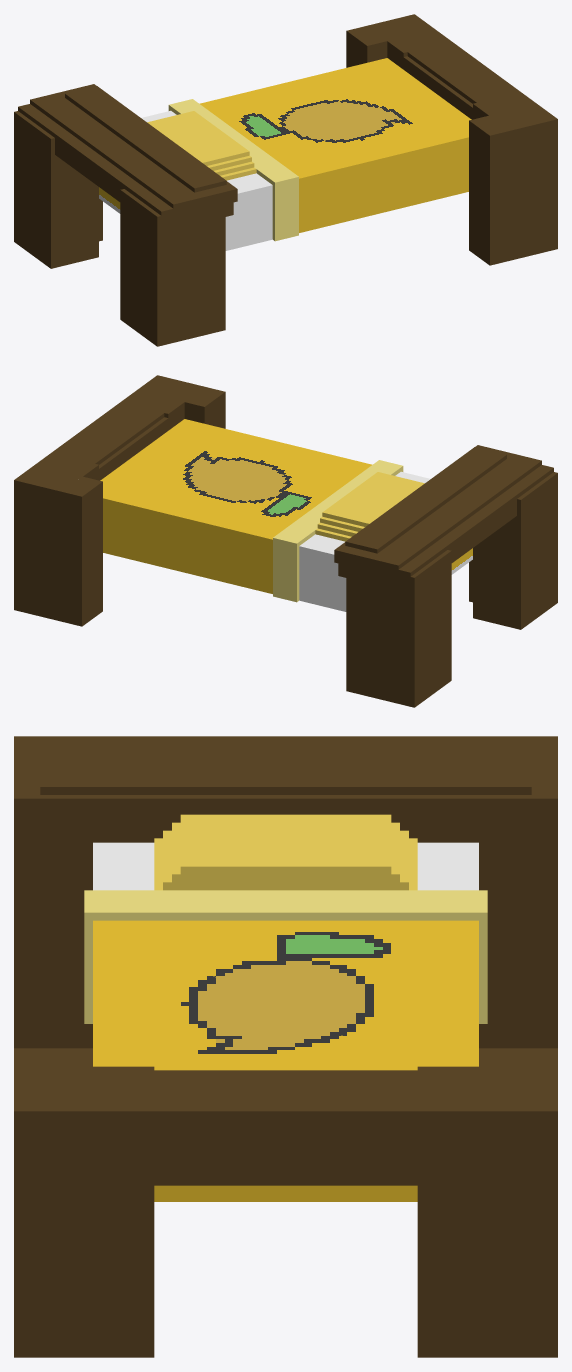
Rendered from bed.glb.
3 views of the same model, one above another, from view 1: azimuth 30°, elevation 25°; view 2: azimuth 150°, elevation 25°; view 3: azimuth 270°, elevation 25° (orthographic). The views are drawn at different scales.
Parts seen in each view (by area): view 1: pl0; view 2: pl0; view 3: pl0.
Boxes of the visible parts, left/top/right/bottom form: pl0: left=14, top=14, right=557, bottom=346; pl0: left=14, top=375, right=557, bottom=707; pl0: left=14, top=736, right=557, bottom=1357.
Bounding box in the file's own units: 10 × 3.4 × 6.2.
Materials: 1 (1 with a texture image).
